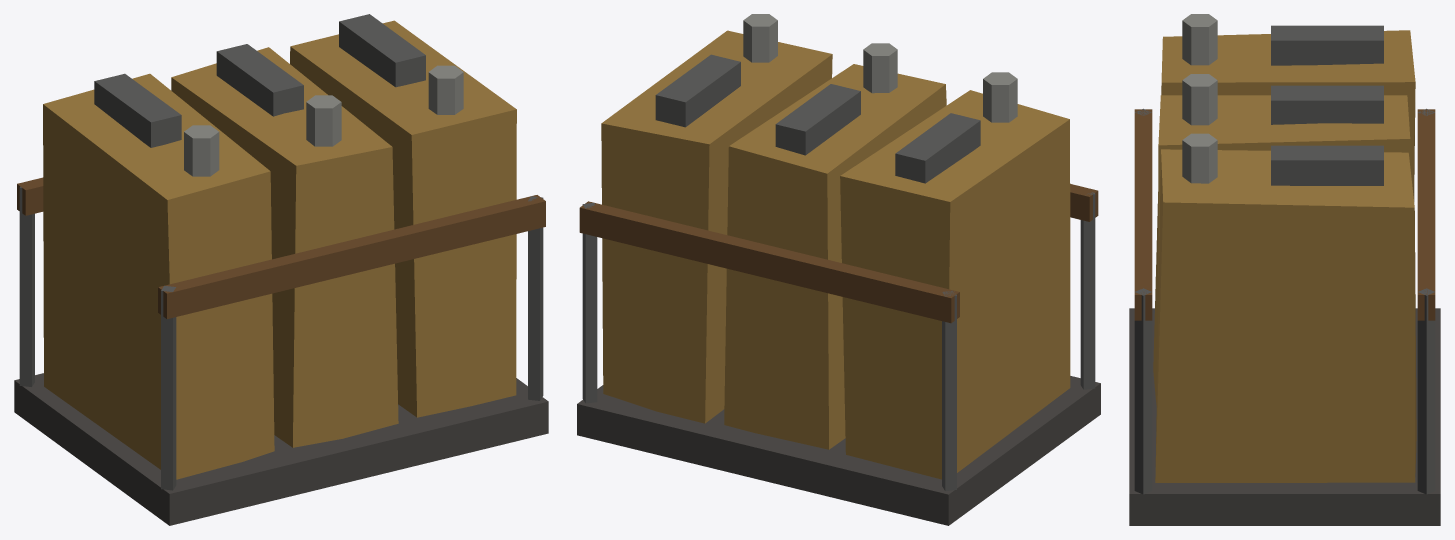
The model's file is store_jerrycans.glb.
3 views of the same model, side by side, from view 1: azimuth 30°, elevation 25°; view 2: azimuth 150°, elevation 25°; view 3: azimuth 270°, elevation 25° (orthographic). The views are drawn at different scales.
Visible parts, largest first — view 1: store_jerrycans; view 2: store_jerrycans; view 3: store_jerrycans.
Part boxes in pixels (box(x1,y1,x2,y2)): store_jerrycans: box(14, 14, 548, 525); store_jerrycans: box(577, 14, 1100, 525); store_jerrycans: box(1129, 14, 1440, 525).
Size of the model in its own units: 0.625 by 0.55 by 0.44.
